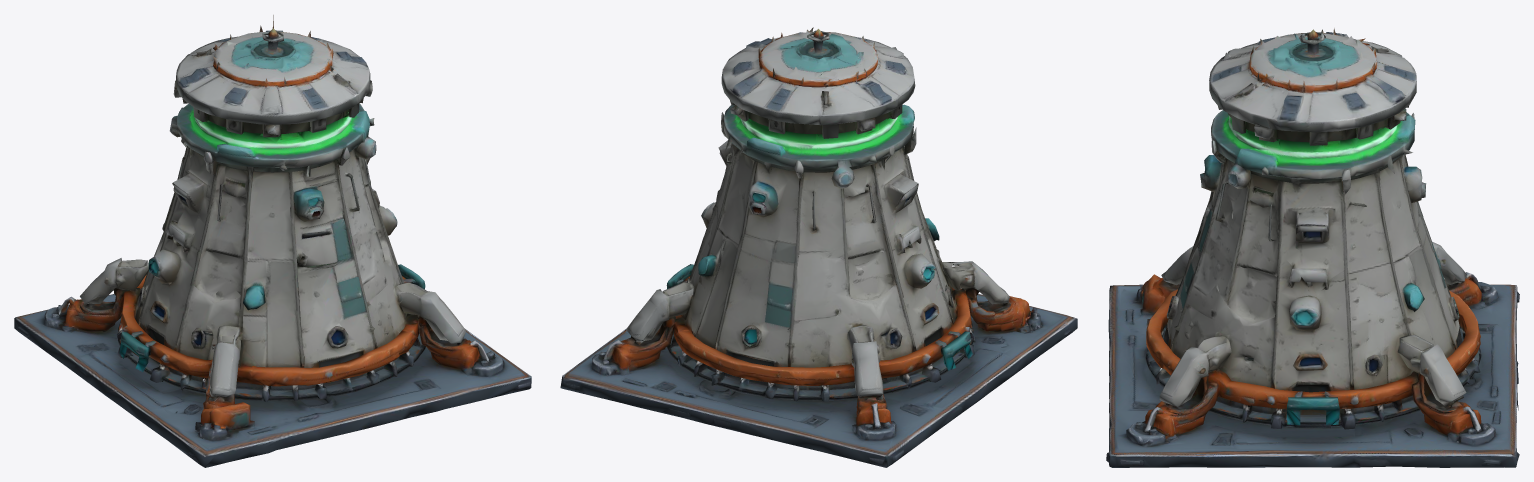
The model's file is reacteur.glb.
3 renders of one model, left to right at view 1: azimuth 30°, elevation 25°; view 2: azimuth 150°, elevation 25°; view 3: azimuth 270°, elevation 25°, orthographic. The views are drawn at different scales.
Visible parts, largest first — view 1: tripo_node_9a308e9d-f754-4d59-8f26-2e9440440d58; view 2: tripo_node_9a308e9d-f754-4d59-8f26-2e9440440d58; view 3: tripo_node_9a308e9d-f754-4d59-8f26-2e9440440d58.
Part boxes in pixels (x1=…): tripo_node_9a308e9d-f754-4d59-8f26-2e9440440d58: x1=14, y1=15, x2=531, y2=467; tripo_node_9a308e9d-f754-4d59-8f26-2e9440440d58: x1=560, y1=27, x2=1077, y2=467; tripo_node_9a308e9d-f754-4d59-8f26-2e9440440d58: x1=1106, y1=28, x2=1519, y2=467.
Bounding box in the file's own units: 0.9937 × 0.9871 × 1.
1 material, 1 textured.
